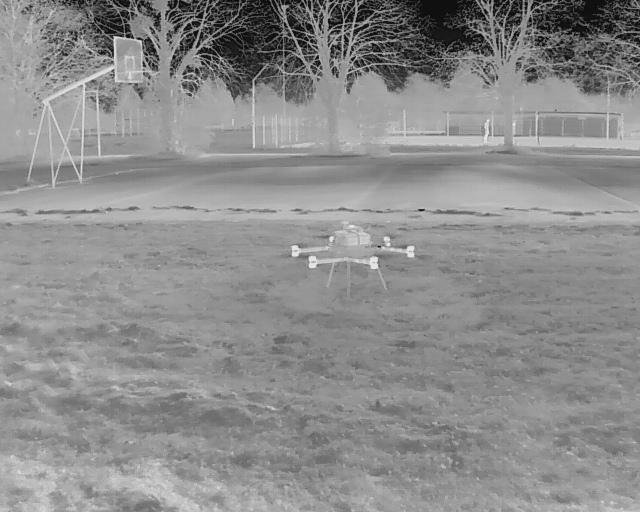drone: (266, 212, 429, 311)
